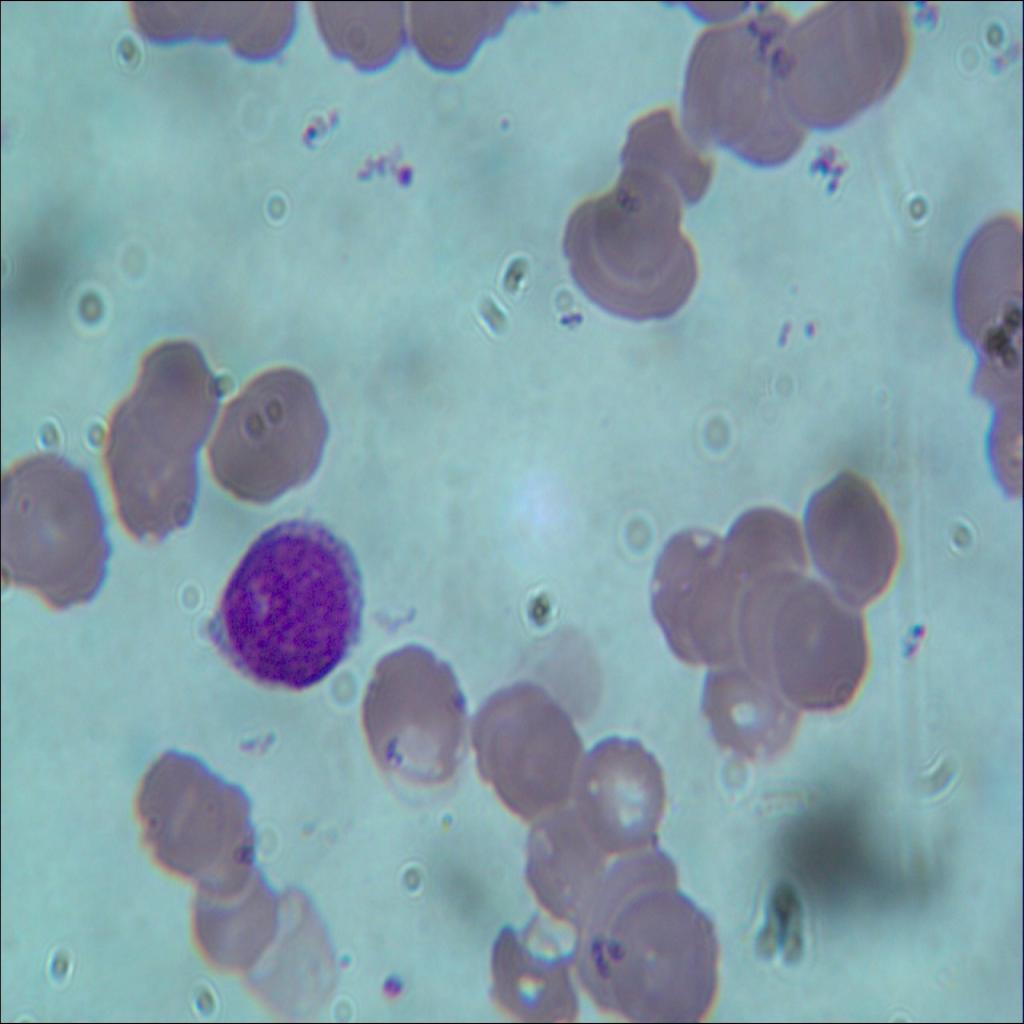Eritrosit: (559, 200, 699, 330), (4, 452, 108, 611), (213, 364, 329, 502), (649, 522, 756, 666), (716, 10, 813, 168), (366, 642, 466, 792), (478, 682, 580, 828), (799, 467, 902, 611), (777, 0, 886, 134), (608, 892, 718, 1023), (99, 404, 201, 538), (775, 586, 875, 712), (946, 208, 1023, 354), (133, 745, 224, 868), (576, 734, 664, 859), (614, 104, 718, 206), (183, 873, 283, 979), (589, 164, 681, 278), (132, 335, 218, 452), (486, 914, 578, 1023), (679, 26, 768, 138), (740, 568, 826, 682), (720, 509, 804, 625), (700, 664, 798, 762), (523, 802, 599, 922), (602, 848, 684, 959), (572, 911, 658, 1009), (183, 799, 259, 901)
Limfoblast: (210, 517, 364, 689)
Platelet: (770, 313, 800, 355), (550, 304, 584, 338), (378, 964, 408, 1001), (291, 112, 321, 147), (449, 689, 476, 721), (393, 159, 419, 191), (909, 612, 930, 644), (322, 98, 344, 128), (802, 313, 822, 339), (902, 635, 918, 661)
